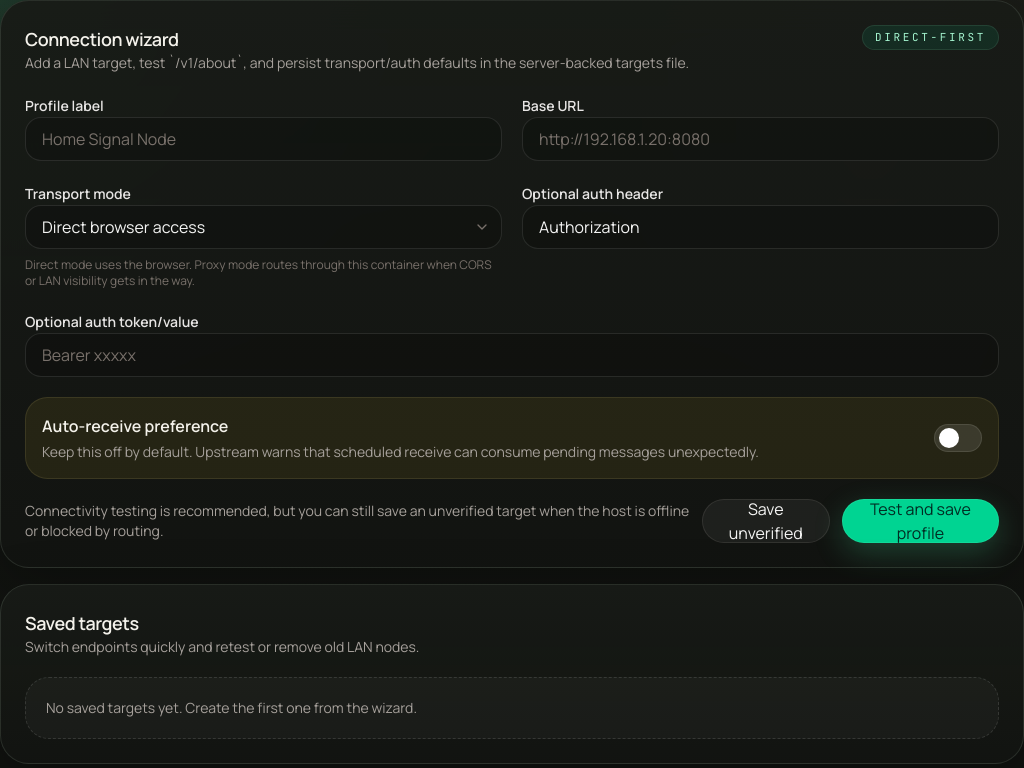
ConnectRoute › persists the target when test-and-save fails connectivity
Type "Failing Node" into the field labelled "Profile label".
click(264, 139); type("Failing Node")  # box [25,117,502,161]
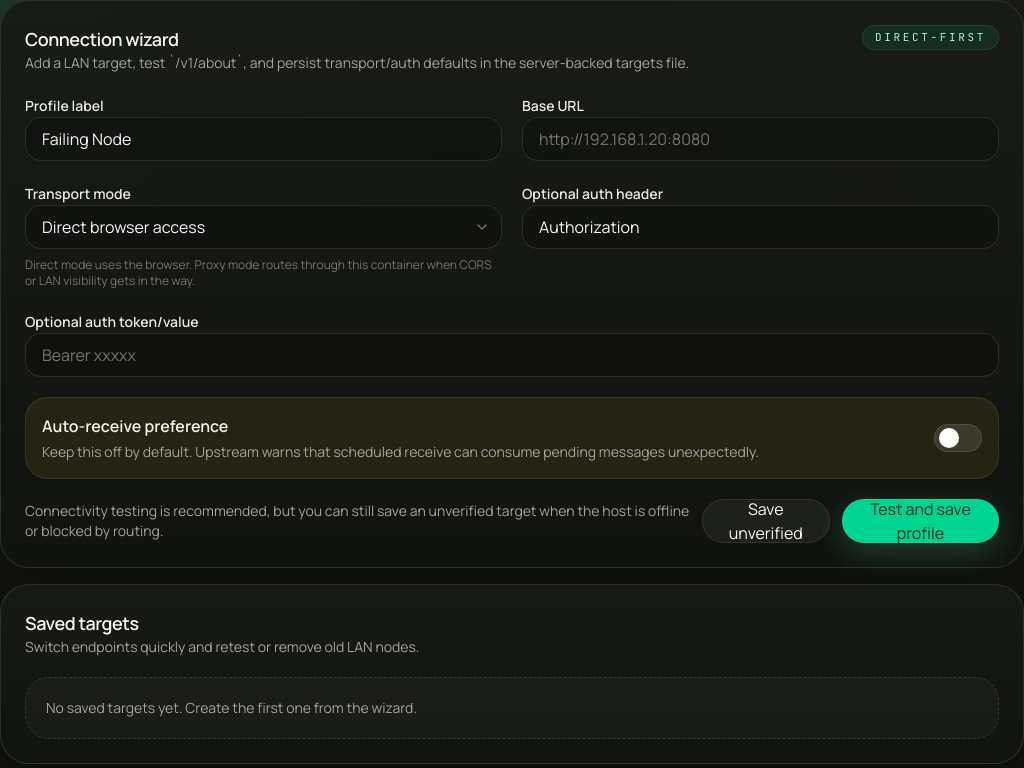
Type "http://192.168.23.41:8080" into the field labelled "Base URL".
click(760, 139); type("http://192.168.23.41:8080")  # box [522,117,999,161]
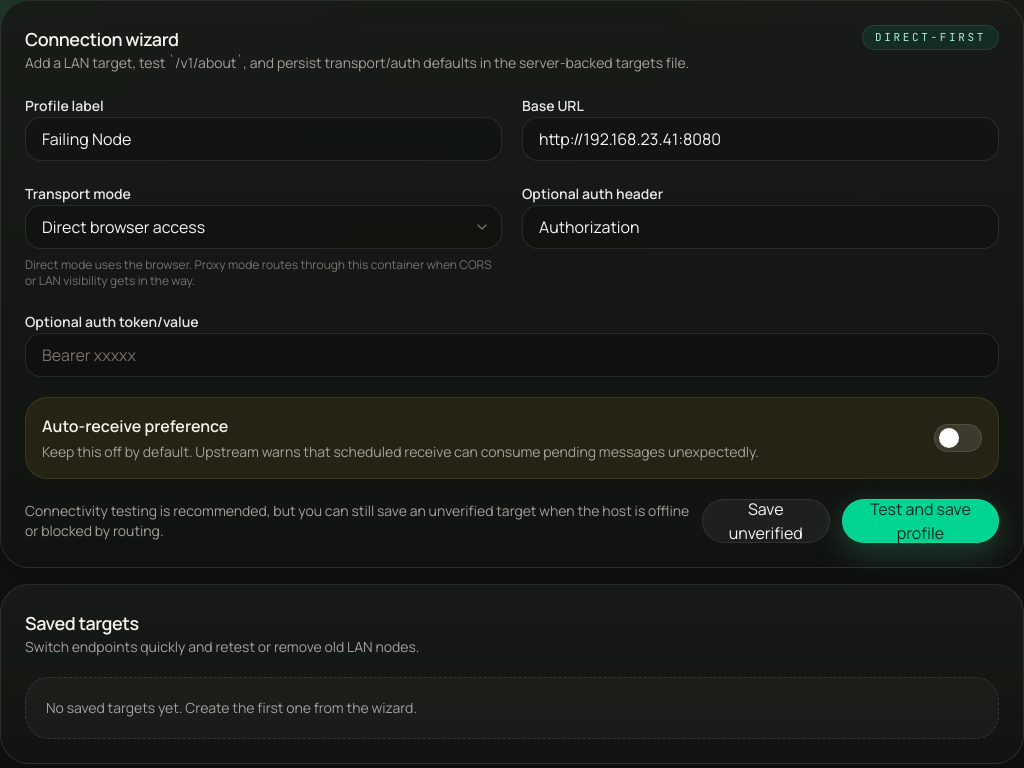
Click the button "Test and save profile".
click(920, 521)  # box [842,499,999,543]
(page scrolled)
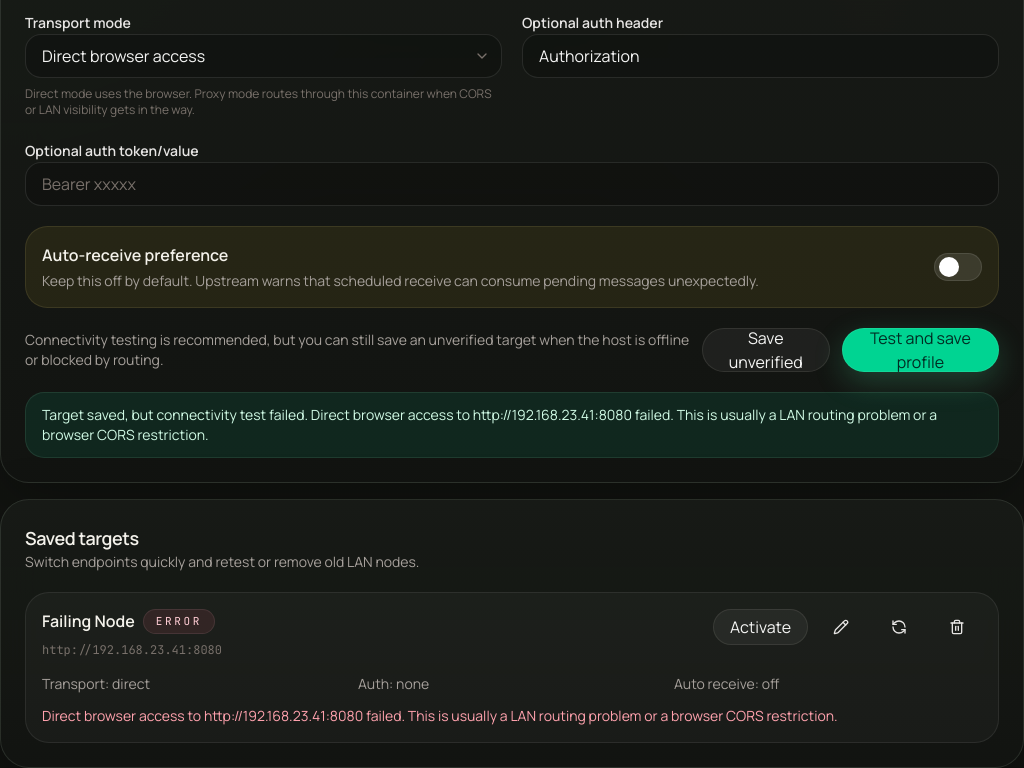
Now the heading "Failing Node" is shown, box [42,609,135,633]
Now the text "Target saved, but connectivity test failed" is shown, box [42,405,937,444]
Now the text "error" is shown, box [143,609,215,634]
